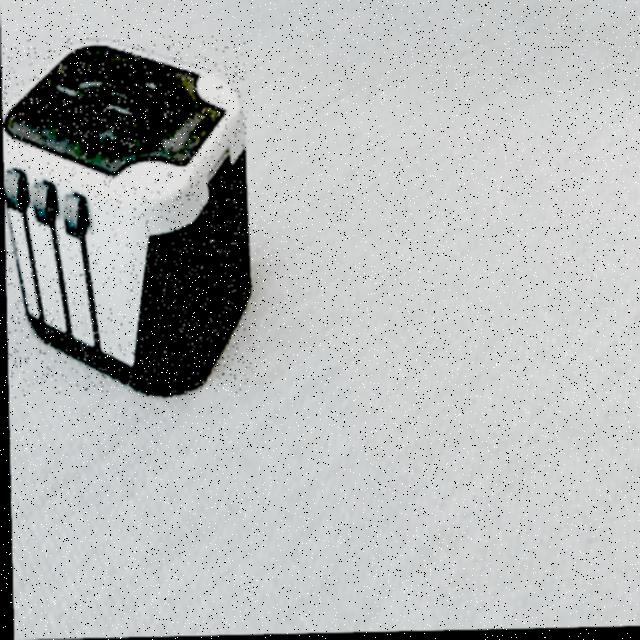adapter: (1, 36, 253, 398)
